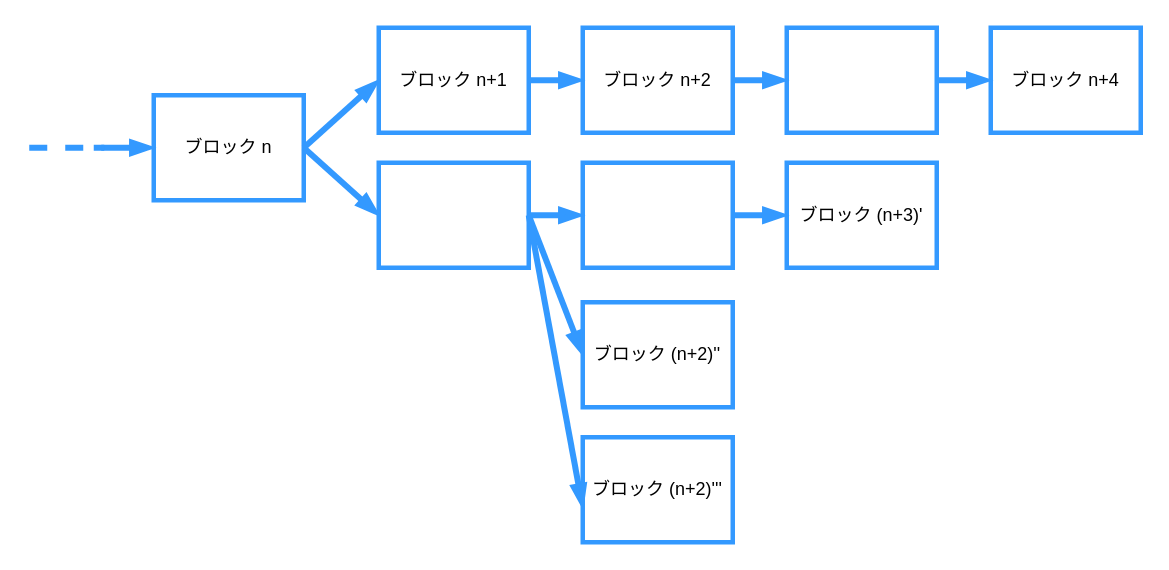
The diagram is 1169 pixels wide and 570 high, and some of its shapes have lost their labels. The centre of each missing label's shape, as x and y in pixels:
"ブロック (n+1)'" goes at (x=453, y=214).
"ブロック (n+2)'" goes at (x=657, y=214).
"ブロック n+3" goes at (x=861, y=79).
